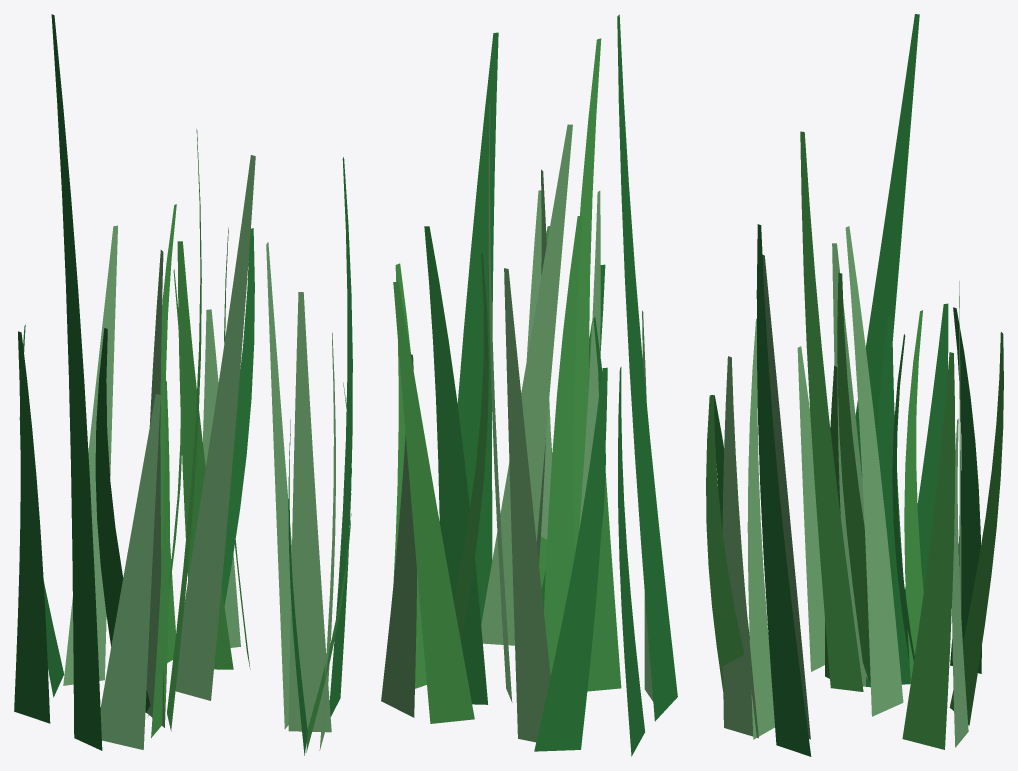
The model's file is seagrass.glb.
3 views of the same model, side by side, from view 1: azimuth 30°, elevation 25°; view 2: azimuth 150°, elevation 25°; view 3: azimuth 270°, elevation 25° (orthographic). The views are drawn at different scales.
Parts seen in each view (by area): view 1: seagrass; view 2: seagrass; view 3: seagrass.
Boxes of the visible parts, left/top/right/bottom form: seagrass: left=14, top=14, right=352, bottom=755; seagrass: left=381, top=14, right=677, bottom=756; seagrass: left=706, top=14, right=1003, bottom=756.
Size of the model in its own units: 0.5572 by 1.46 by 0.6134.
